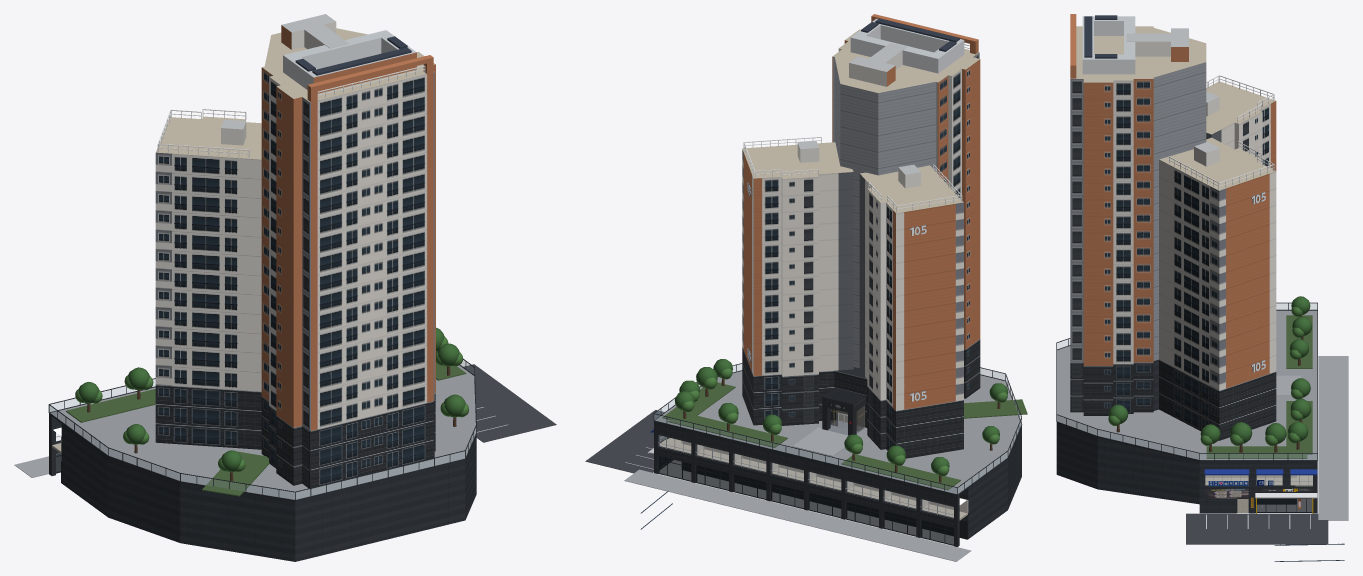
File: emart24+105.glb
The picture shows the model from 3 angles, left to right: view 1: azimuth 30°, elevation 25°; view 2: azimuth 150°, elevation 25°; view 3: azimuth 270°, elevation 25°; orthographic projection. The views are drawn at different scales.
Visible parts, largest first — view 1: Wing_South_20F, KumhoParkHills_105_With_Retail_v3, Wing_NW_15F; view 2: KumhoParkHills_105_With_Retail_v3, Wing_NE_15F, Wing_NW_15F, Wing_South_20F; view 3: KumhoParkHills_105_With_Retail_v3, Wing_South_20F, Wing_NE_15F, Wing_NW_15F, Banner_Panel.
Part boxes in pixels (x1=…): Wing_South_20F: x1=261, y1=14, x2=435, y2=488; KumhoParkHills_105_With_Retail_v3: x1=14, y1=28, x2=556, y2=561; Wing_NW_15F: x1=155, y1=109, x2=261, y2=449; KumhoParkHills_105_With_Retail_v3: x1=585, y1=48, x2=1027, y2=561; Wing_NE_15F: x1=742, y1=137, x2=853, y2=425; Wing_NW_15F: x1=859, y1=164, x2=963, y2=458; Wing_South_20F: x1=832, y1=14, x2=980, y2=398; KumhoParkHills_105_With_Retail_v3: x1=1056, y1=27, x2=1348, y2=544; Wing_South_20F: x1=1070, y1=14, x2=1188, y2=415; Wing_NE_15F: x1=1159, y1=137, x2=1276, y2=440; Wing_NW_15F: x1=1206, y1=75, x2=1276, y2=170; Banner_Panel: x1=1205, y1=488, x2=1248, y2=498.
Bounding box in the file's own units: 64.25 × 71.53 × 42.15.
Materials: 119 (58 with a texture image).
